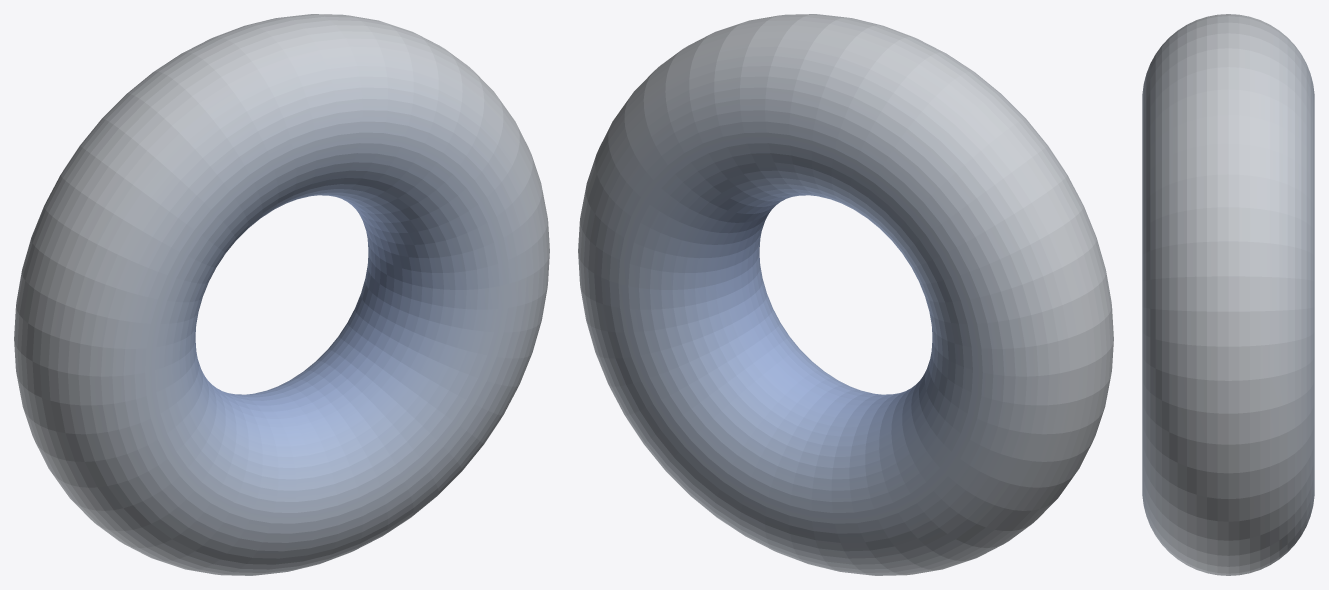
The picture shows the model from 3 angles, left to right: view 1: azimuth 30°, elevation 25°; view 2: azimuth 150°, elevation 25°; view 3: azimuth 270°, elevation 25°; orthographic projection. The views are drawn at different scales.
Visible parts, largest first — view 1: world; view 2: world; view 3: world.
Boxes of the visible parts, x1,y1,x2,y2 form: world: (14, 14, 549, 575); world: (578, 14, 1113, 575); world: (1142, 14, 1314, 575).
Bounding box in the file's own units: 22.13 × 22.09 × 6.79.
